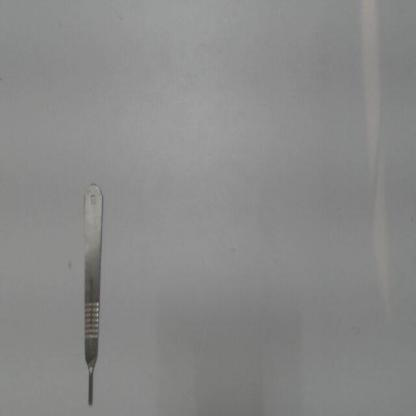No.3 BP Handle: (76, 180, 108, 414)
